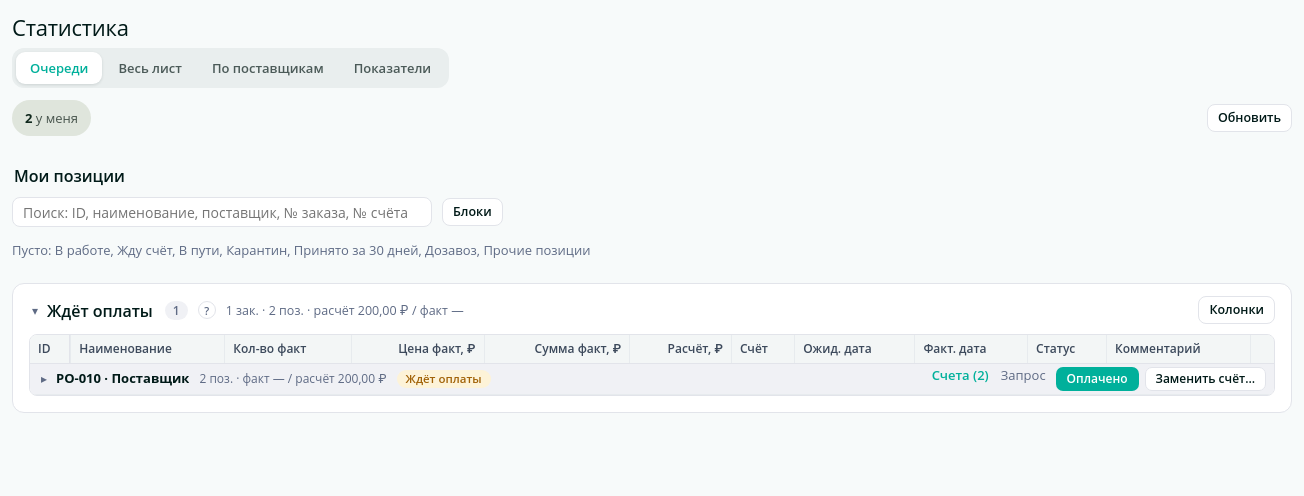
lists several invoices of one order as «Счета (2)» and keeps a differing invoice on its line
The width and height of the screenshot is (1304, 496).
Expected: the heading "Счета (2)" is shown, x1=932 y1=367 x2=989 y2=385
Click the button "▸ PO-010 · Поставщик".
click(114, 379)  # box x1=38 y1=370 x2=189 y2=388
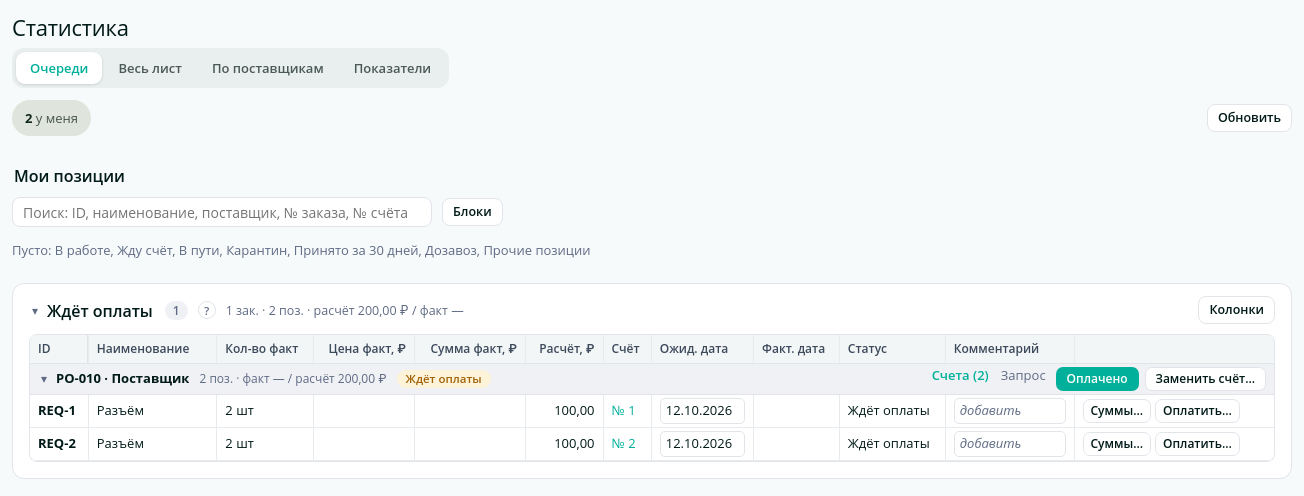
Result: the button "▾ PO-010 · Поставщик" is expanded at x1=38 y1=370 x2=189 y2=388
